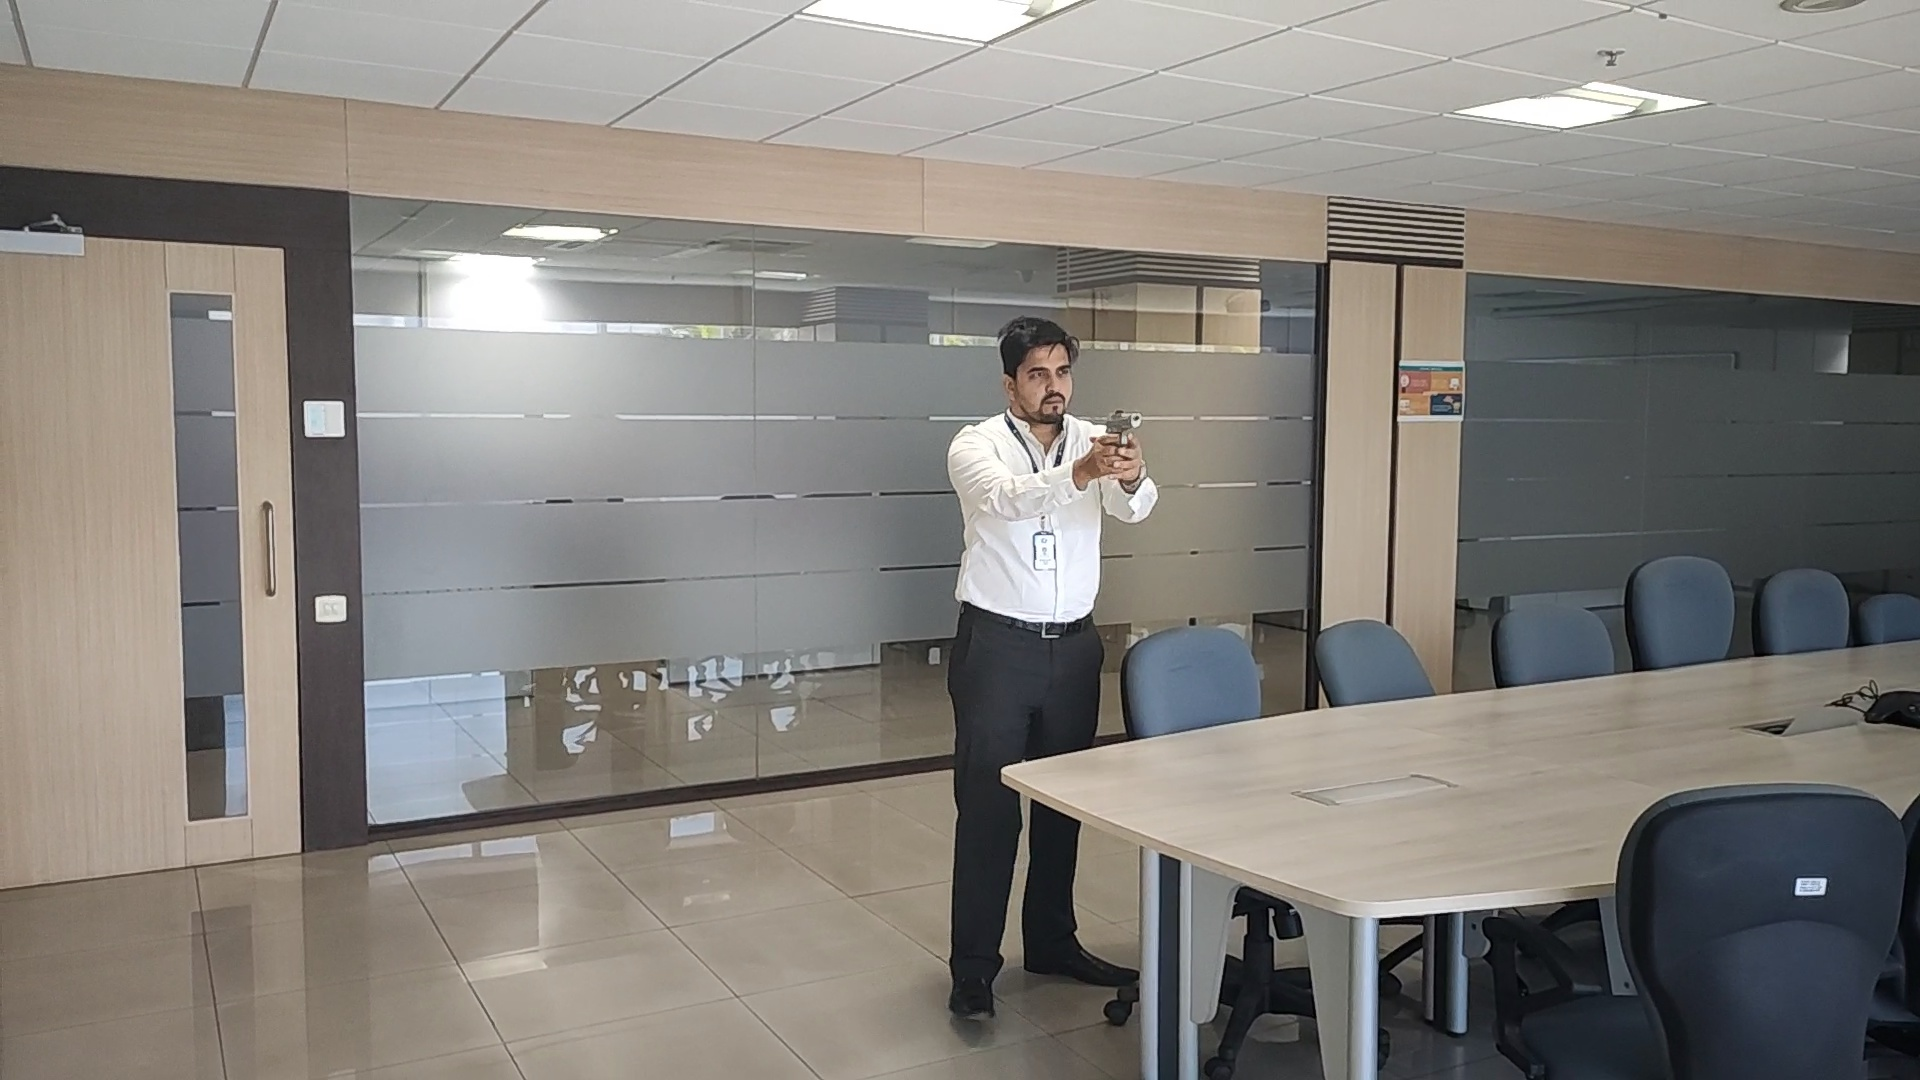gun: (1106, 406, 1145, 448)
